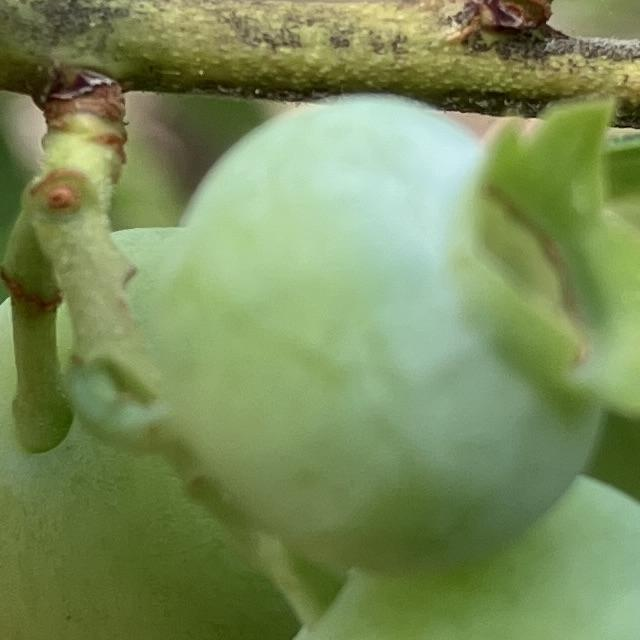Blueberries: (147, 78, 640, 578)
